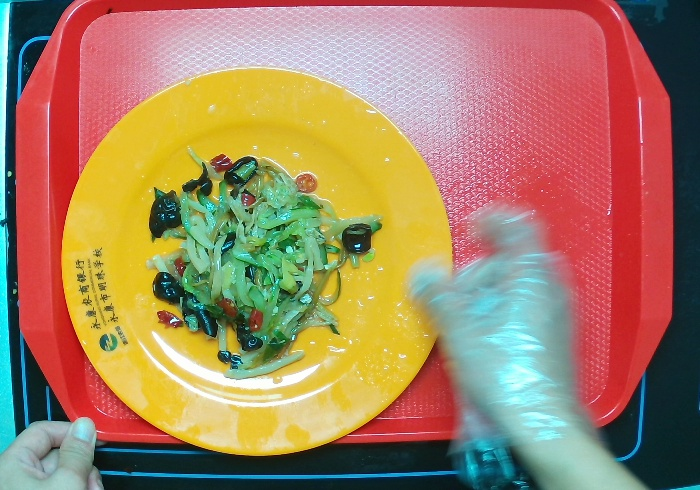YKMZ-Ju_Se_Mian_Pan: (45, 42, 467, 467)
